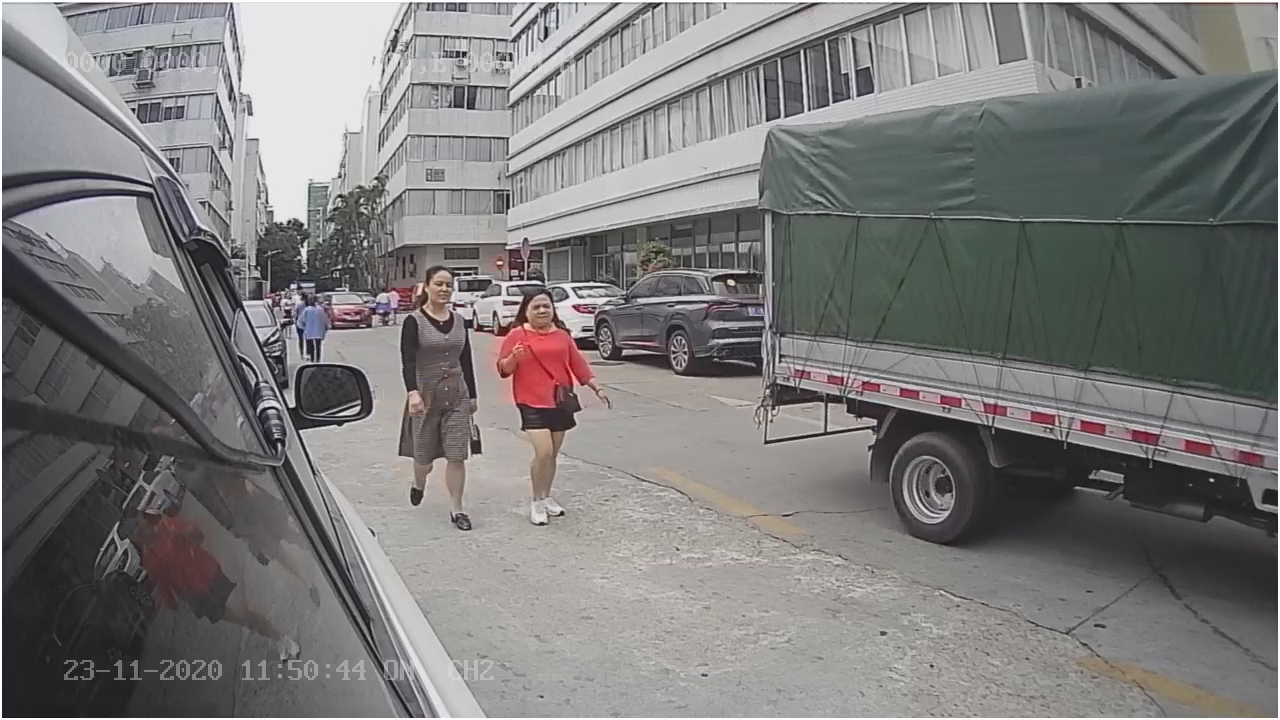person: (497, 287, 610, 521), (397, 262, 483, 529)
